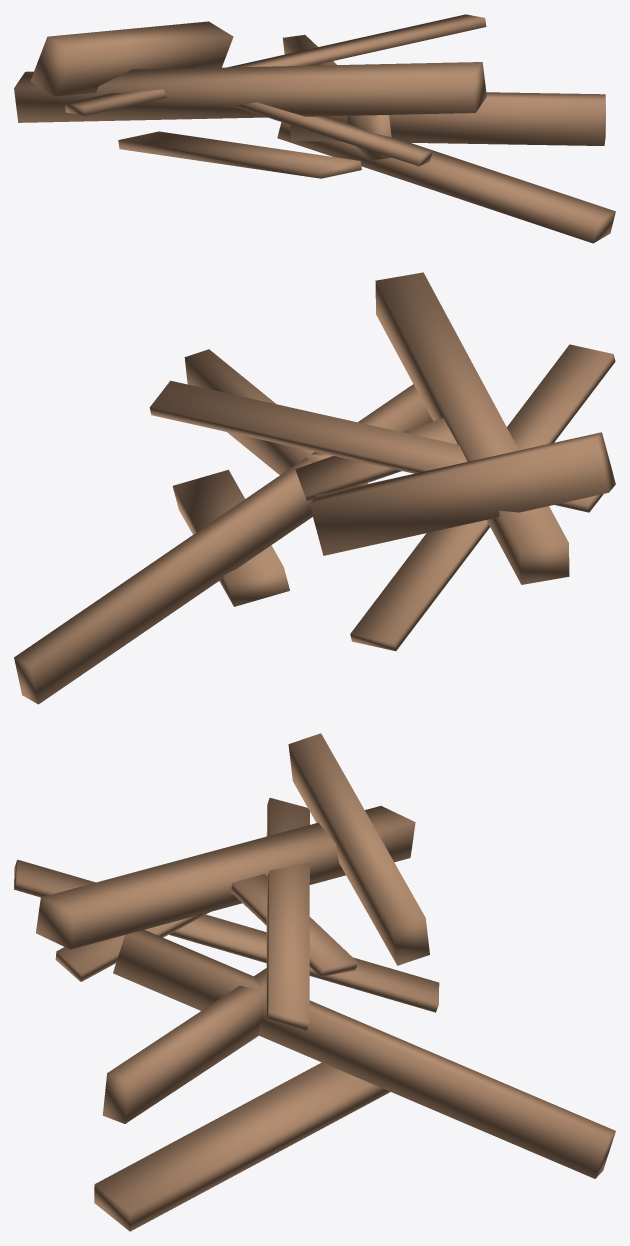
File: ind_scrap.glb
3 renders of one model, top to bottom at view 1: azimuth 30°, elevation 25°; view 2: azimuth 150°, elevation 25°; view 3: azimuth 270°, elevation 25°, orthographic. The views are drawn at different scales.
Parts seen in each view (by area): view 1: ind_scrap; view 2: ind_scrap; view 3: ind_scrap.
Boxes of the visible parts, bbox=[...] form: ind_scrap: bbox=[14, 14, 615, 243]; ind_scrap: bbox=[14, 272, 615, 704]; ind_scrap: bbox=[14, 733, 615, 1231].
Bounding box in the file's own units: 2.23 × 1.06 × 2.25.
